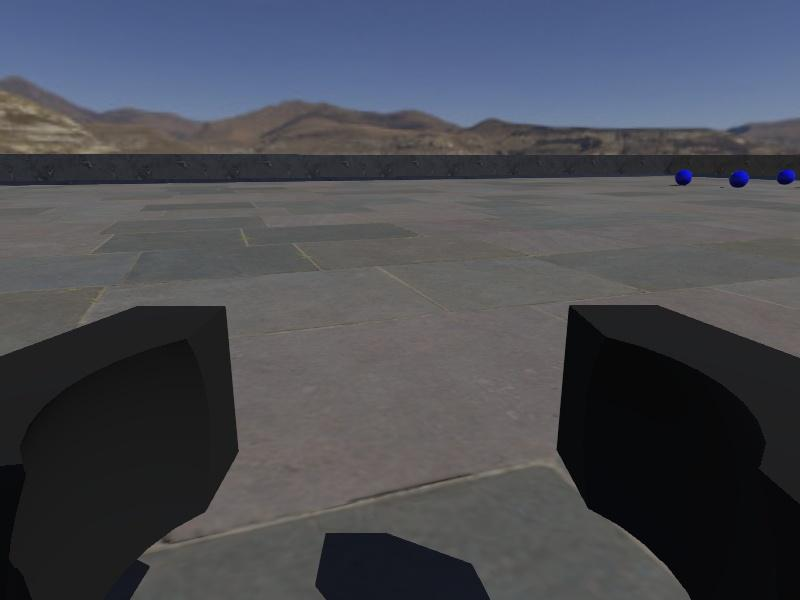blue ball: (728, 168, 749, 189), (775, 166, 796, 186), (675, 168, 693, 186)
